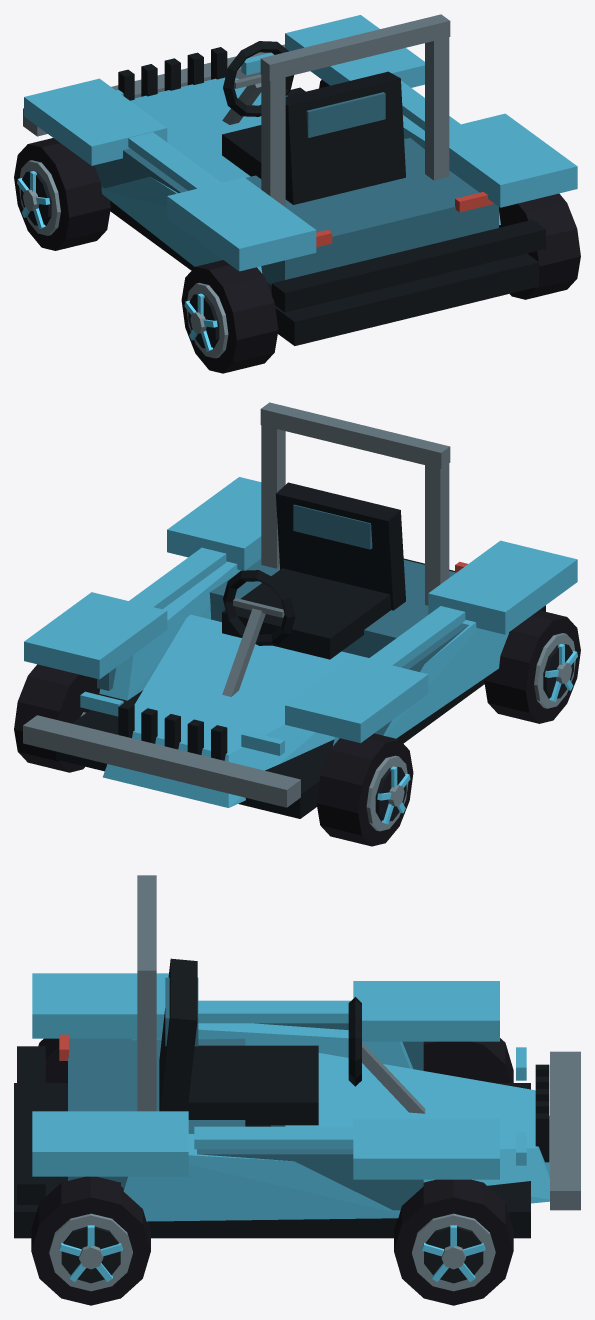
The model's file is kart.glb.
The picture shows the model from 3 angles, top to bottom: view 1: azimuth 30°, elevation 25°; view 2: azimuth 150°, elevation 25°; view 3: azimuth 270°, elevation 25°; orthographic projection. The views are drawn at different scales.
Parts seen in each view (by area): view 1: chassis, wheel-rear-left, wheel-front-left, wheel-rear-right; view 2: chassis, wheel-front-left, wheel-rear-left, wheel-front-right; view 3: chassis, wheel-front-right, wheel-rear-right, wheel-front-left, wheel-rear-left.
Part boxes in pixels (bbox=[...]): chassis: bbox=[23, 14, 577, 345]; wheel-rear-left: bbox=[181, 260, 278, 373]; wheel-front-left: bbox=[14, 138, 110, 250]; wheel-rear-right: bbox=[499, 193, 580, 299]; chassis: bbox=[23, 402, 577, 818]; wheel-front-left: bbox=[316, 733, 413, 846]; wheel-rear-left: bbox=[484, 610, 580, 723]; wheel-front-right: bbox=[14, 664, 108, 772]; chassis: bbox=[14, 875, 580, 1238]; wheel-front-right: bbox=[394, 1179, 513, 1305]; wheel-rear-right: bbox=[31, 1176, 150, 1305]; wheel-front-left: bbox=[423, 1038, 513, 1082]; wheel-rear-left: bbox=[38, 1038, 67, 1082].
Bounding box in the file's own units: 2.4 × 1.67 × 2.94.
